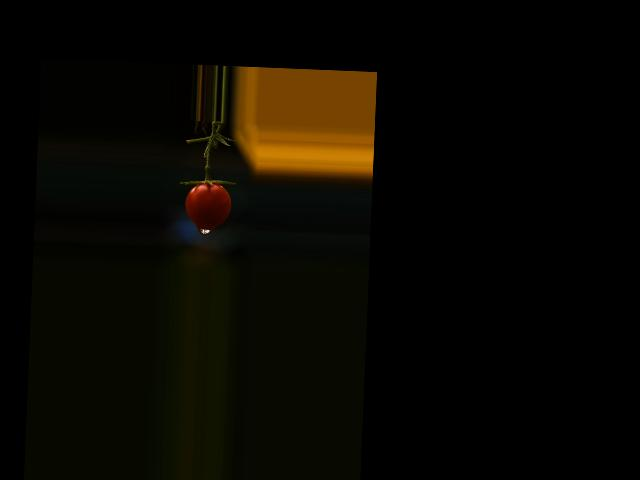tomato: (183, 181, 231, 228)
